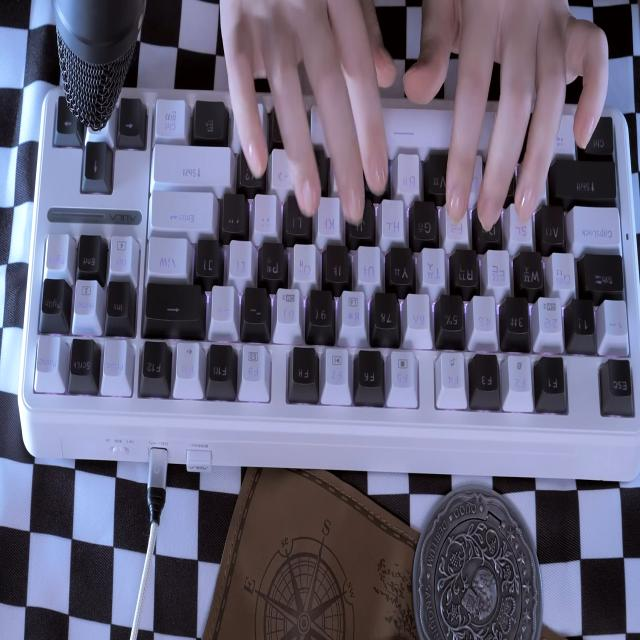keyboard-with-hands: (24, 91, 640, 431)
